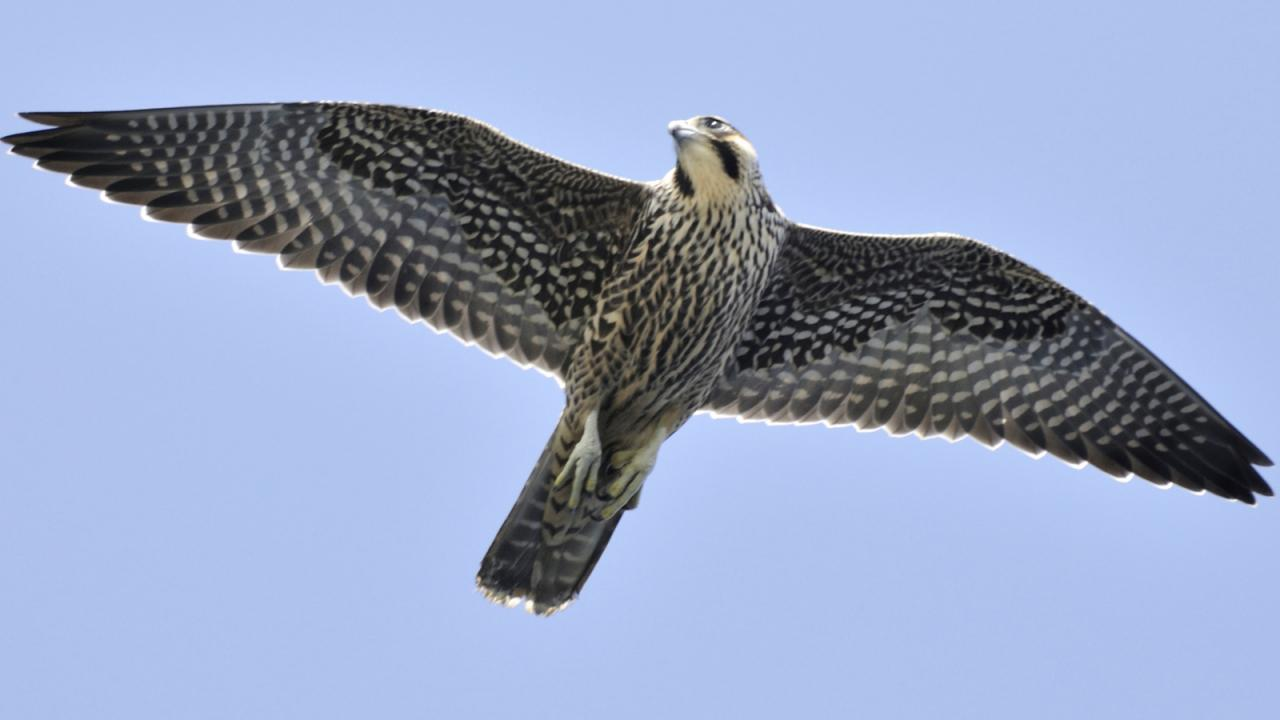Bird: (0, 75, 1280, 631)
